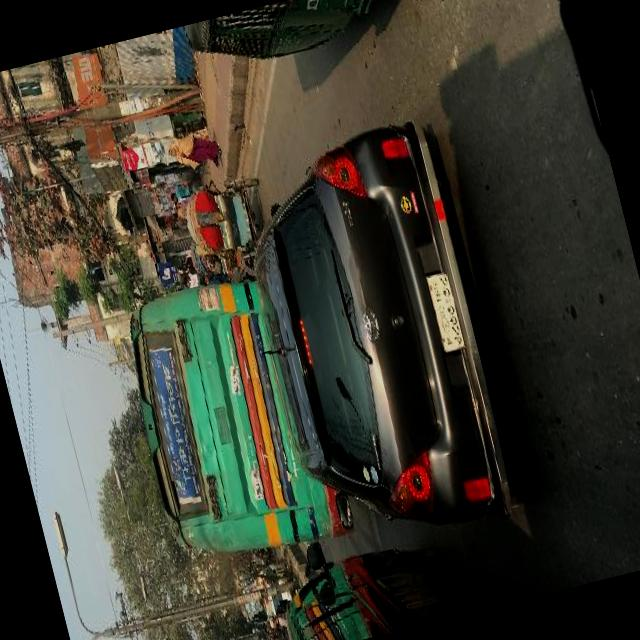bus: (110, 258, 354, 574), (227, 552, 272, 623)
car: (225, 106, 532, 570), (259, 556, 301, 630)
motorcycle: (179, 0, 430, 80), (178, 167, 274, 270), (186, 225, 247, 278), (259, 616, 275, 635)
truck: (265, 504, 480, 640)
